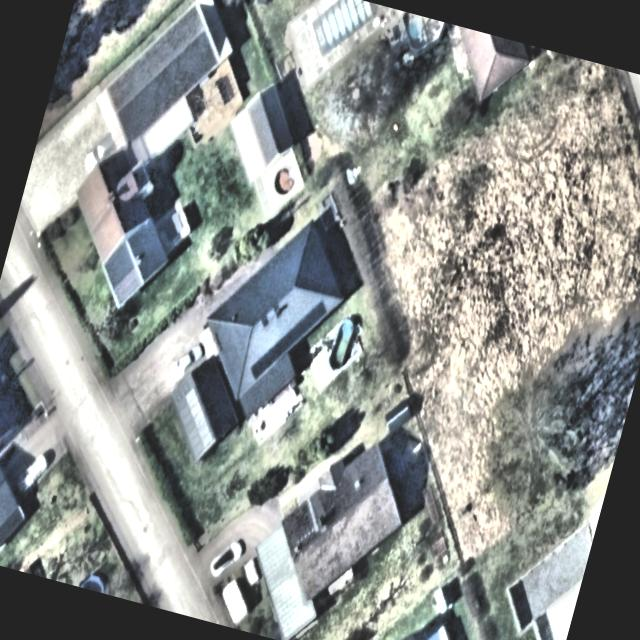roof_pv: (278, 286, 332, 364), (242, 324, 284, 392)
